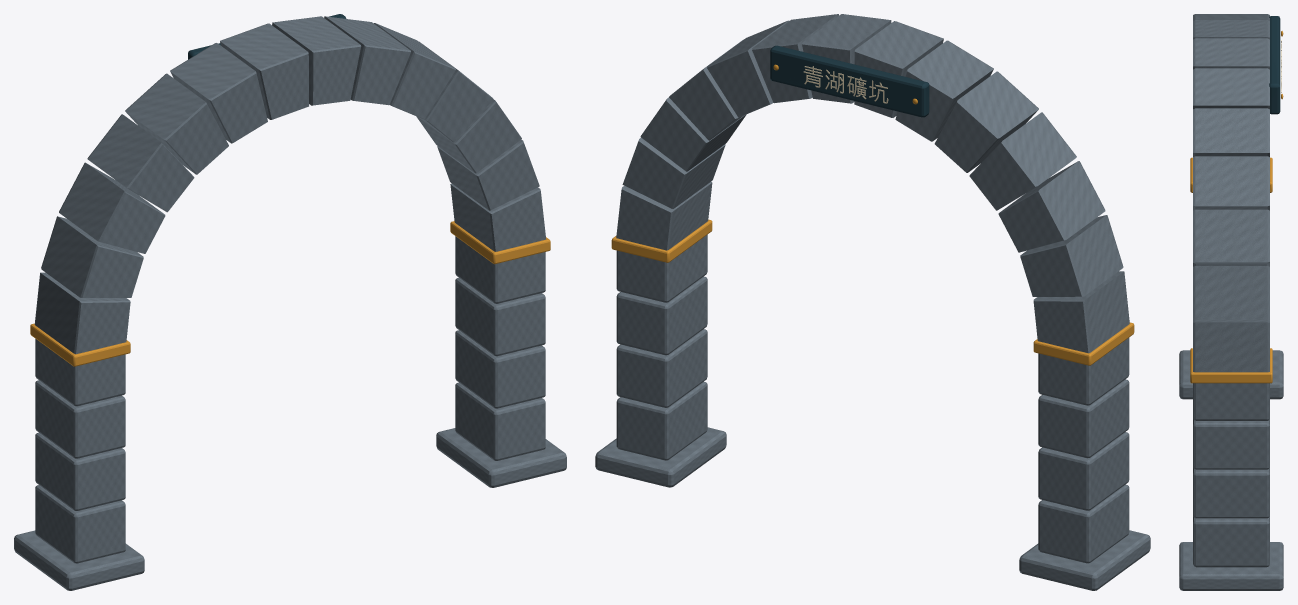
File: Building_Tunnel_StonePortal_001.glb
3 renders of one model, left to right at view 1: azimuth 30°, elevation 25°; view 2: azimuth 150°, elevation 25°; view 3: azimuth 270°, elevation 25°, orthographic. The views are drawn at different scales.
Visible parts, largest first — view 1: StonePortal_Body; view 2: StonePortal_Body; view 3: StonePortal_Body.
Boxes of the visible parts, left/top/right/bottom form: StonePortal_Body: left=14, top=14, right=566, bottom=590; StonePortal_Body: left=595, top=14, right=1150, bottom=590; StonePortal_Body: left=1179, top=14, right=1283, bottom=590.
Size of the model in its own units: 4.62 by 4.19 by 0.9.
Materials: 1 (1 with a texture image).
